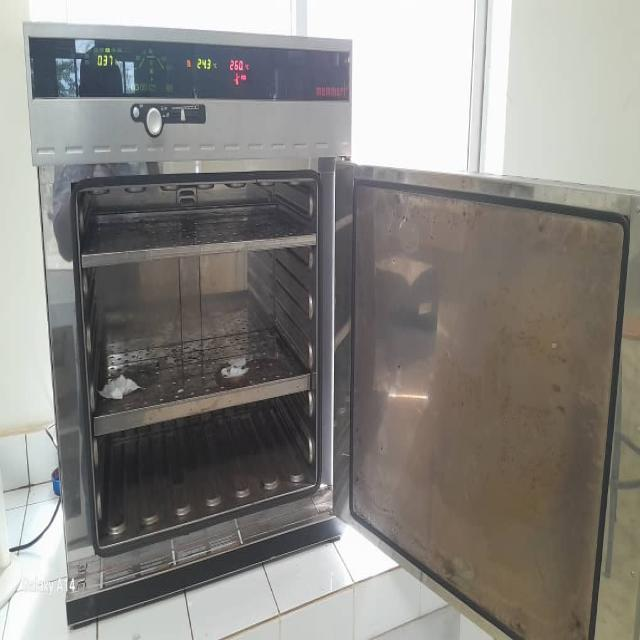Incubator: (22, 22, 353, 568)
